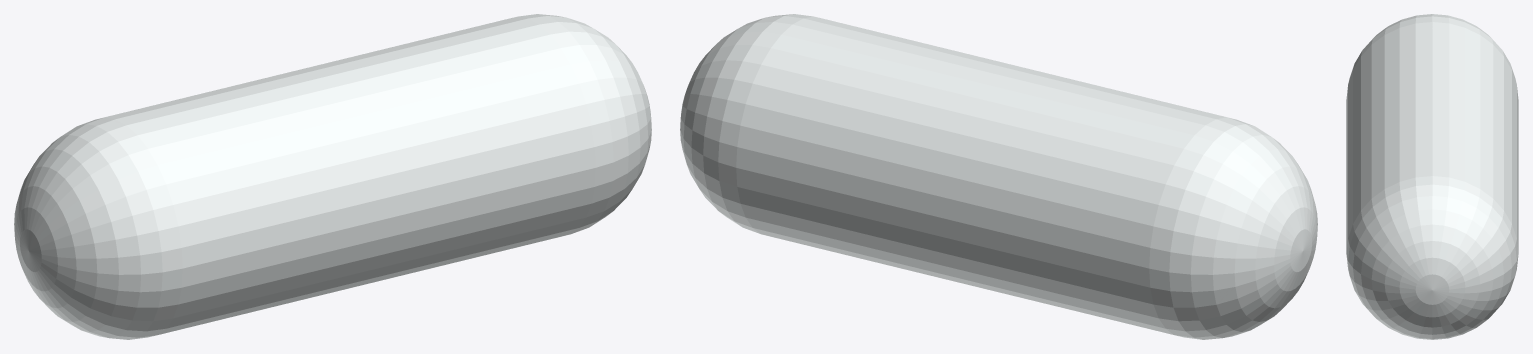
File: HandRounded.fbx
The picture shows the model from 3 angles, left to right: view 1: azimuth 30°, elevation 25°; view 2: azimuth 150°, elevation 25°; view 3: azimuth 270°, elevation 25°; orthographic projection. The views are drawn at different scales.
Parts seen in each view (by area): view 1: Sphere; view 2: Sphere; view 3: Sphere.
Boxes of the visible parts, box(x1,y1,x2,y2) form: Sphere: box(14, 14, 651, 339); Sphere: box(680, 14, 1317, 339); Sphere: box(1346, 14, 1518, 339).
Bounding box in the file's own units: 530 × 170 × 170.
